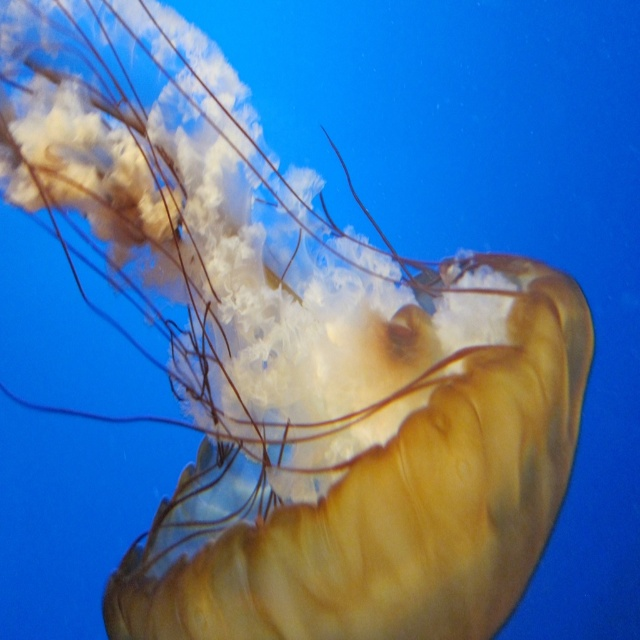Jellyfish: (0, 0, 594, 640)
